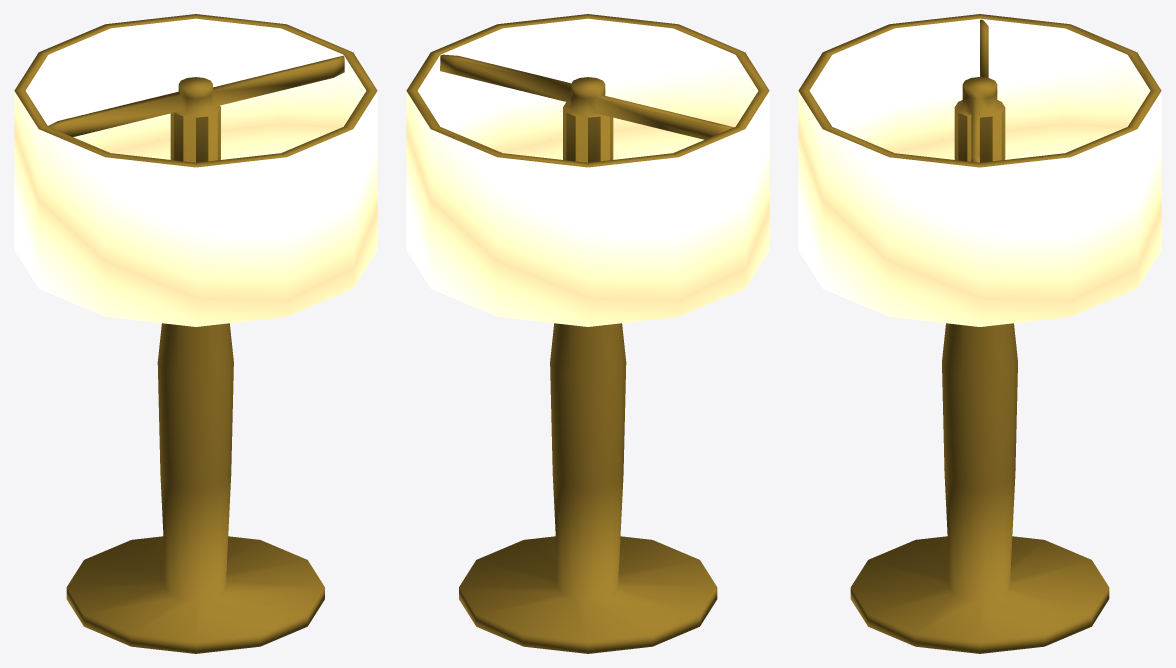
File: tableLamp.glb
The picture shows the model from 3 angles, left to right: view 1: azimuth 30°, elevation 25°; view 2: azimuth 150°, elevation 25°; view 3: azimuth 270°, elevation 25°; orthographic projection.
Visible parts, largest first — view 1: tablelamp; view 2: tablelamp; view 3: tablelamp.
Boxes of the visible parts, x1,y1,x2,y2 form: tablelamp: (14,14,377,653); tablelamp: (406,14,769,653); tablelamp: (798,14,1161,653).
Size of the model in its own units: 2.81 by 4.4 by 2.81.
